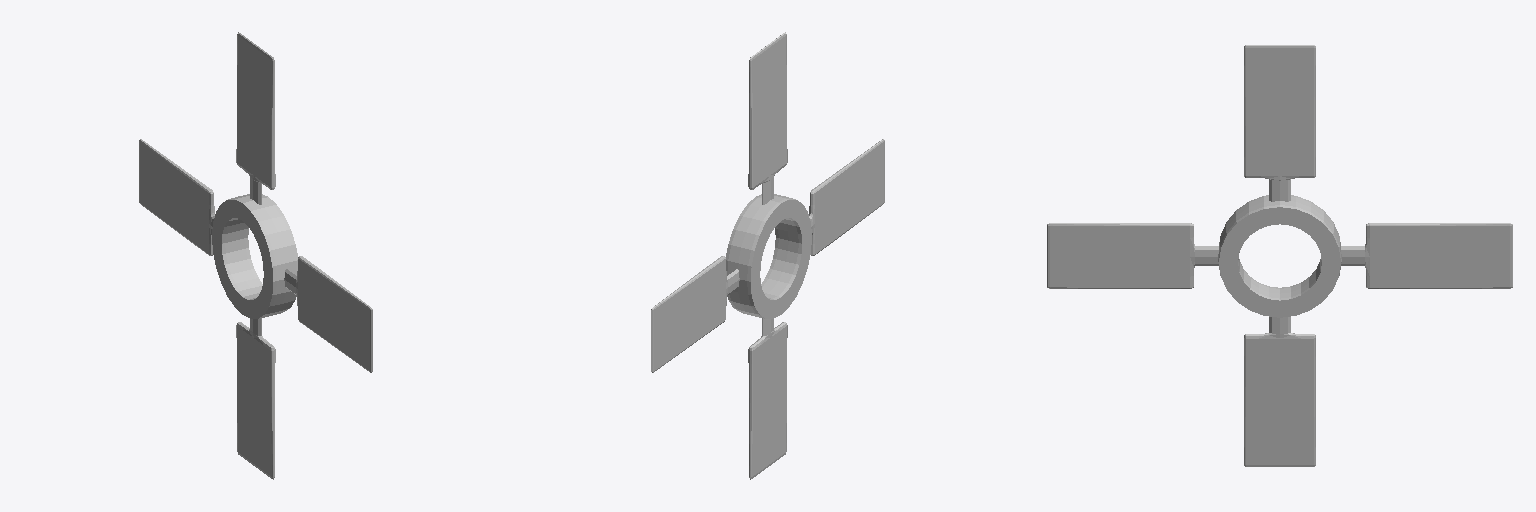
The model's file is heliProp.obj.
3 views of the same model, side by side, from view 1: azimuth 30°, elevation 25°; view 2: azimuth 150°, elevation 25°; view 3: azimuth 270°, elevation 25° (orthographic).
Visible parts, largest first — view 1: Cylinder.003, Cube.002, Cube.006_Cube.009, Cube.008_Cube.011, Cube.007_Cube.010; view 2: Cylinder.003, Cube.002, Cube.006_Cube.009, Cube.007_Cube.010, Cube.008_Cube.011; view 3: Cube.008_Cube.011, Cube.007_Cube.010, Cube.002, Cube.006_Cube.009, Cylinder.003.
Boxes of the visible parts, box(x1,y1,x2,y2) form: Cylinder.003: box(212, 194, 297, 318); Cube.002: box(236, 32, 275, 204); Cube.006_Cube.009: box(236, 318, 275, 479); Cube.008_Cube.011: box(284, 256, 372, 372); Cube.007_Cube.010: box(139, 139, 214, 255); Cylinder.003: box(726, 194, 811, 318); Cube.002: box(748, 32, 787, 204); Cube.006_Cube.009: box(748, 318, 787, 479); Cube.007_Cube.010: box(651, 256, 739, 372); Cube.008_Cube.011: box(809, 139, 884, 255); Cube.008_Cube.011: box(1047, 223, 1218, 288); Cube.007_Cube.010: box(1341, 223, 1512, 288); Cube.002: box(1244, 45, 1315, 201); Cube.006_Cube.009: box(1244, 317, 1315, 466); Cylinder.003: box(1218, 195, 1341, 317).
Size of the model in its own units: 0.3561 by 5.4 by 5.4.